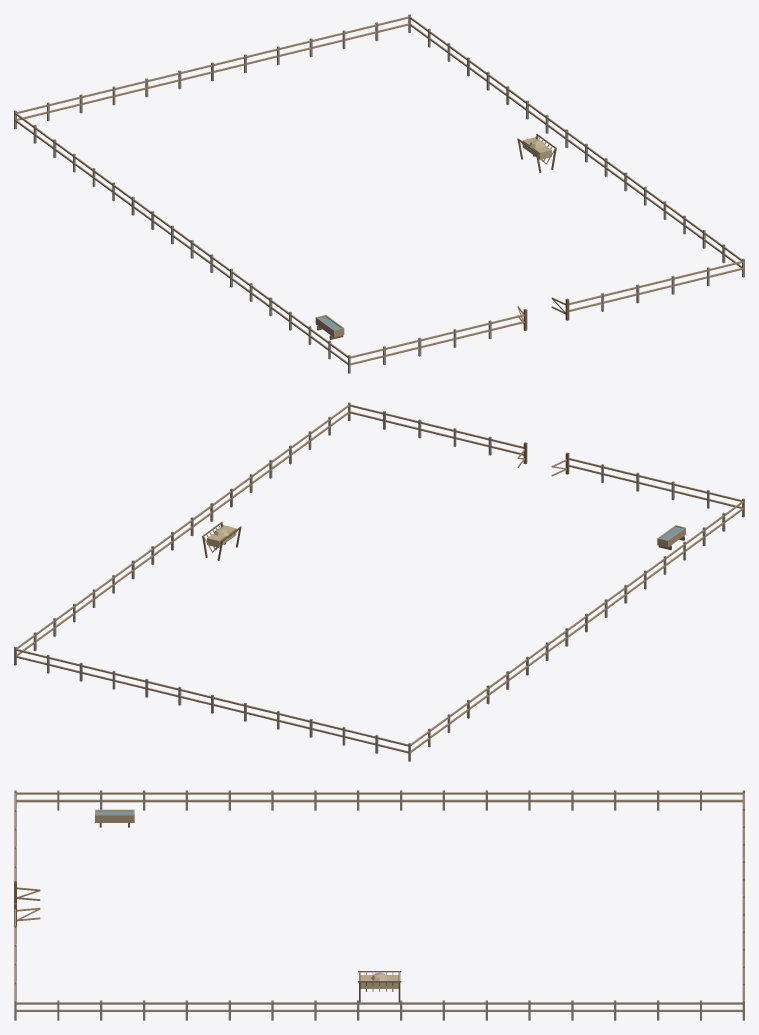
Rendered from paddock.glb.
3 views of the same model, one above another, from view 1: azimuth 30°, elevation 25°; view 2: azimuth 150°, elevation 25°; view 3: azimuth 270°, elevation 25° (orthographic). The views are drawn at different scales.
Visible parts, largest first — view 1: Paddock; view 2: Paddock; view 3: Paddock.
Boxes of the visible parts, left/top/right/bottom form: Paddock: left=14, top=14, right=744, bottom=373; Paddock: left=14, top=402, right=744, bottom=761; Paddock: left=14, top=790, right=744, bottom=1020.
Size of the model in its own units: 30.14 by 1.69 by 44.16.
